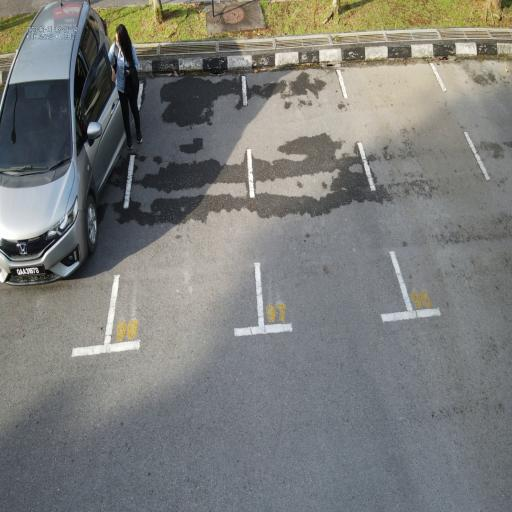Empty: (237, 63, 425, 340), (99, 64, 267, 360)
